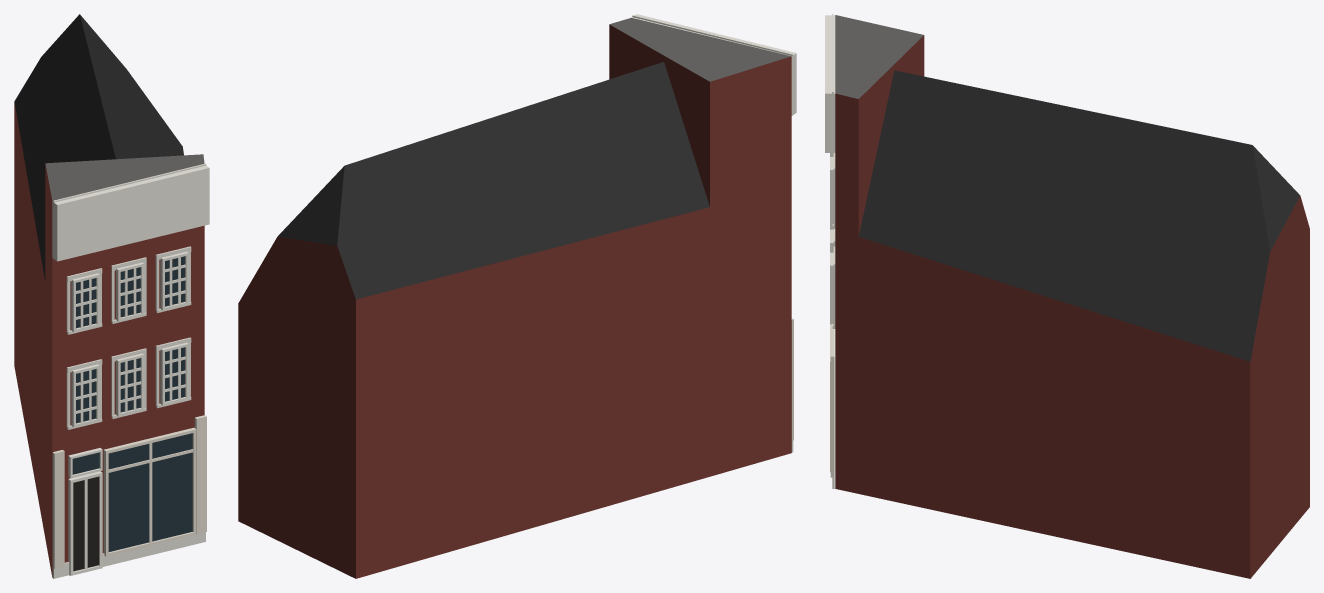
The picture shows the model from 3 angles, left to right: view 1: azimuth 30°, elevation 25°; view 2: azimuth 150°, elevation 25°; view 3: azimuth 270°, elevation 25°; orthographic projection. The views are drawn at different scales.
Parts seen in each view (by area): view 1: spec-0363100012172000; view 2: spec-0363100012172000; view 3: spec-0363100012172000.
Boxes of the visible parts, x1,y1,x2,y2 form: spec-0363100012172000: (14, 14, 209, 578); spec-0363100012172000: (238, 14, 796, 578); spec-0363100012172000: (825, 14, 1309, 578).
Bounding box in the file's own units: 9.71 × 10.69 × 11.84.
